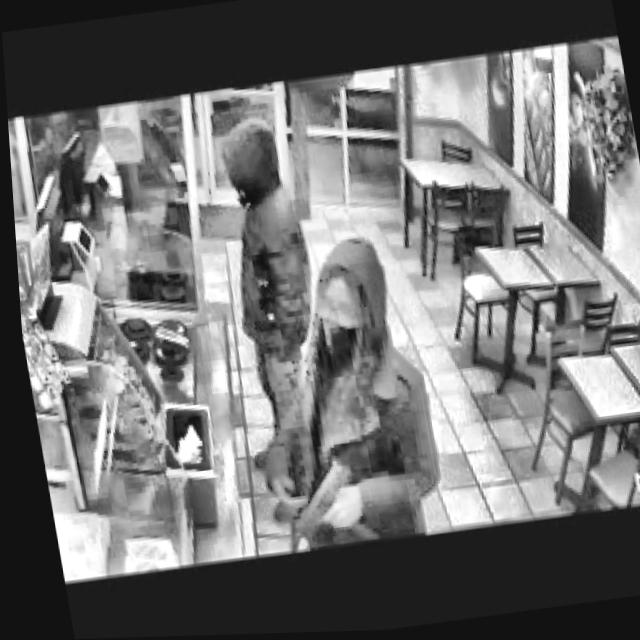robbery: (222, 230, 449, 553), (190, 112, 338, 471)
